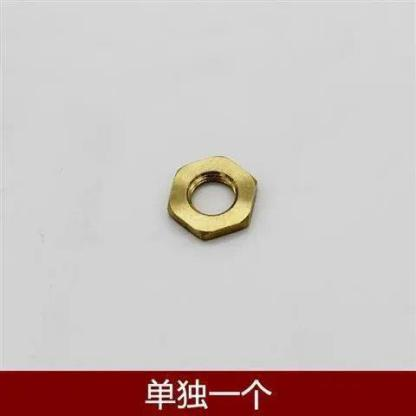FOD: (166, 152, 262, 242)
